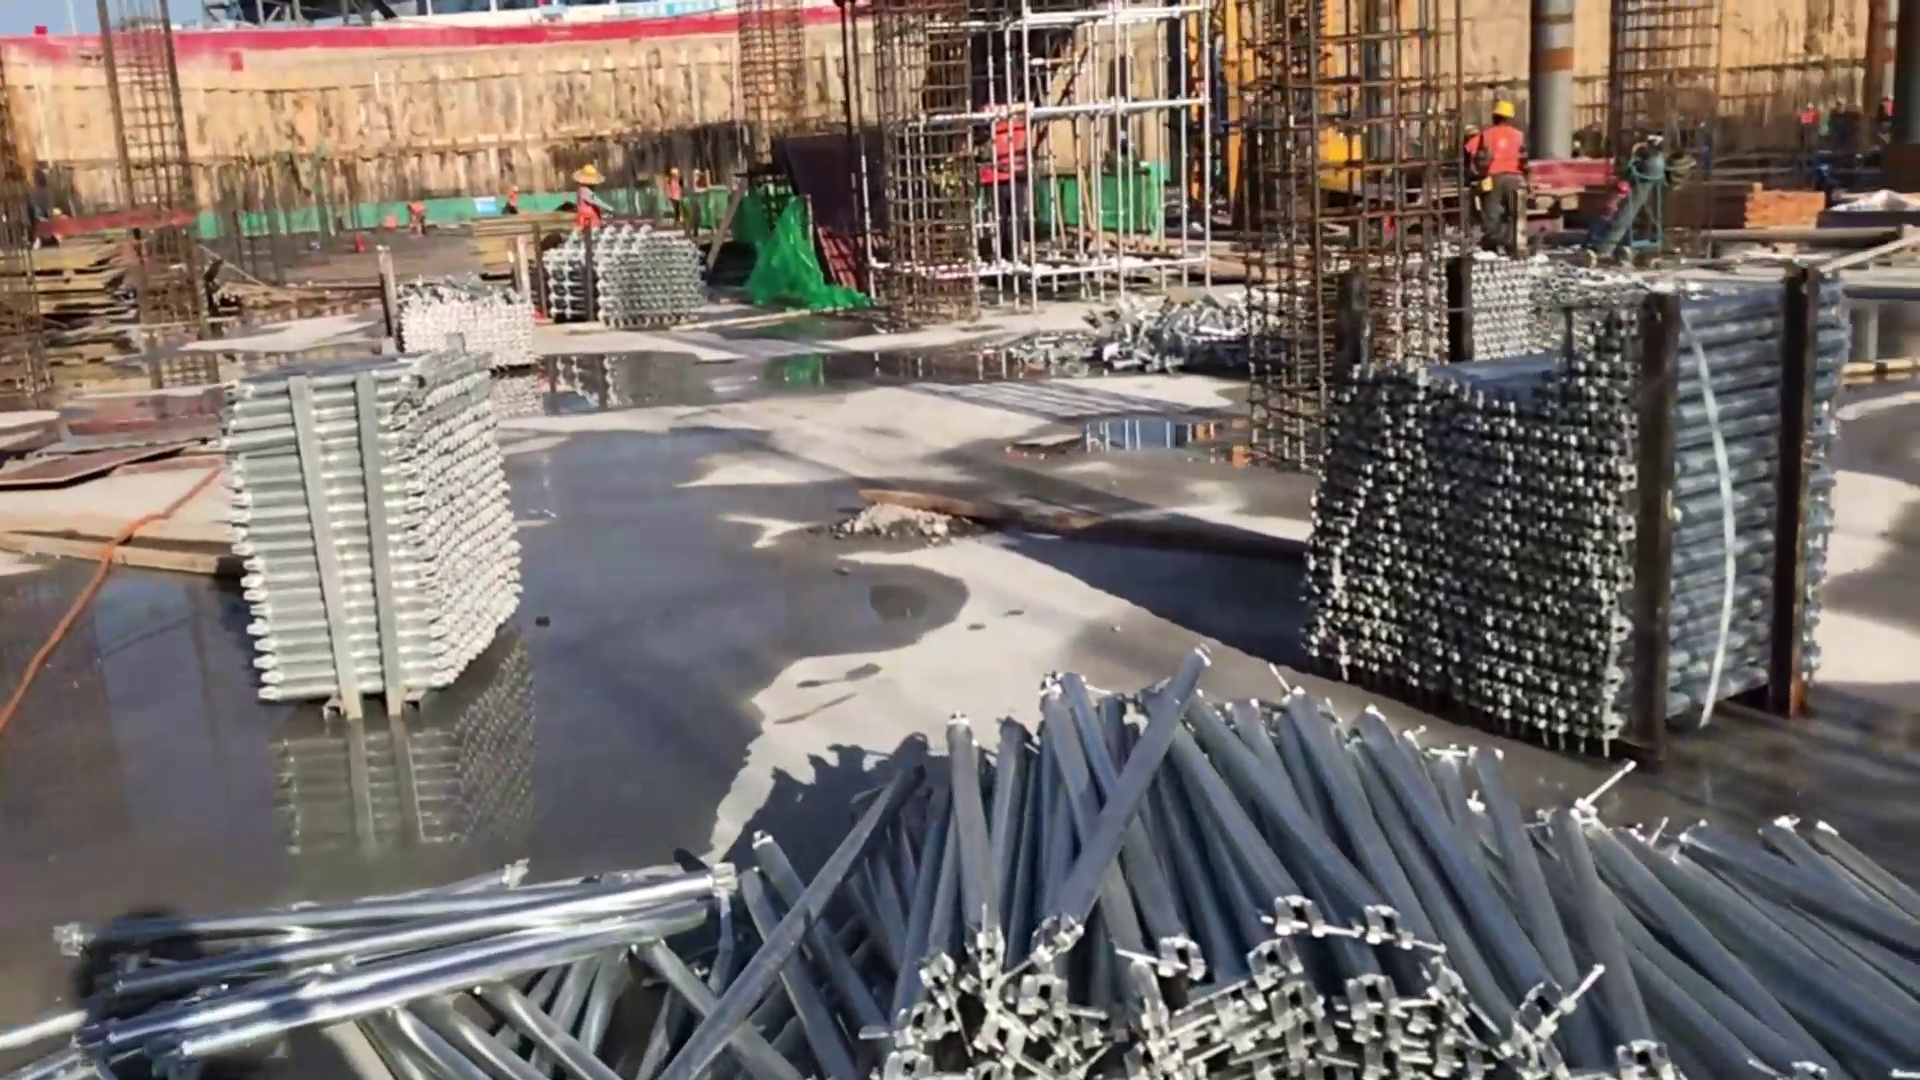board: (1, 241, 129, 310), (466, 210, 585, 279)
helmet: (1493, 100, 1518, 119), (578, 165, 602, 182)
person: (1473, 99, 1535, 256), (573, 160, 616, 247), (663, 160, 690, 224)
scaffold: (9, 660, 1911, 1080), (1309, 277, 1843, 753), (232, 350, 521, 699), (597, 231, 703, 328)
vest: (1481, 126, 1521, 172)
